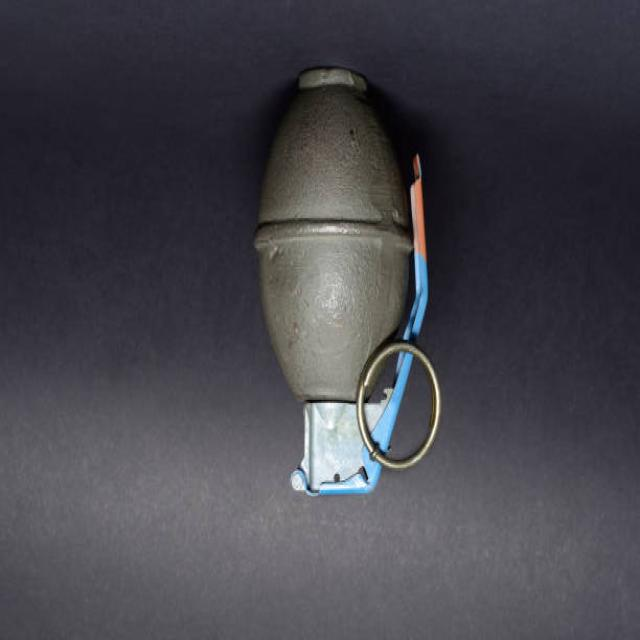grenade: (249, 51, 444, 525)
